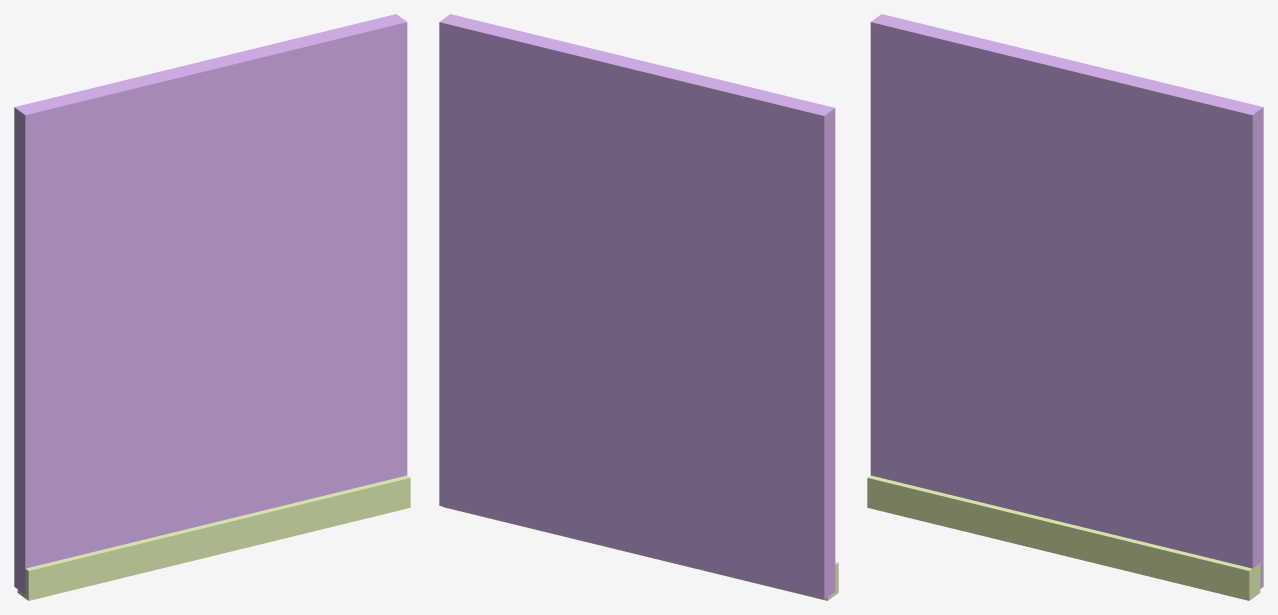
Rendered from simplewall.glb.
The picture shows the model from 3 angles, left to right: view 1: azimuth 30°, elevation 25°; view 2: azimuth 150°, elevation 25°; view 3: azimuth 330°, elevation 25°; orthographic projection.
Visible parts, largest first — view 1: Cube.031; view 2: Cube.031; view 3: Cube.031.
Part boxes in pixels (left/top/right/bottom): Cube.031: left=14, top=14, right=410, bottom=600; Cube.031: left=439, top=14, right=838, bottom=600; Cube.031: left=867, top=14, right=1263, bottom=600.
Size of the model in its own units: 2 by 2.42 by 0.1298.
